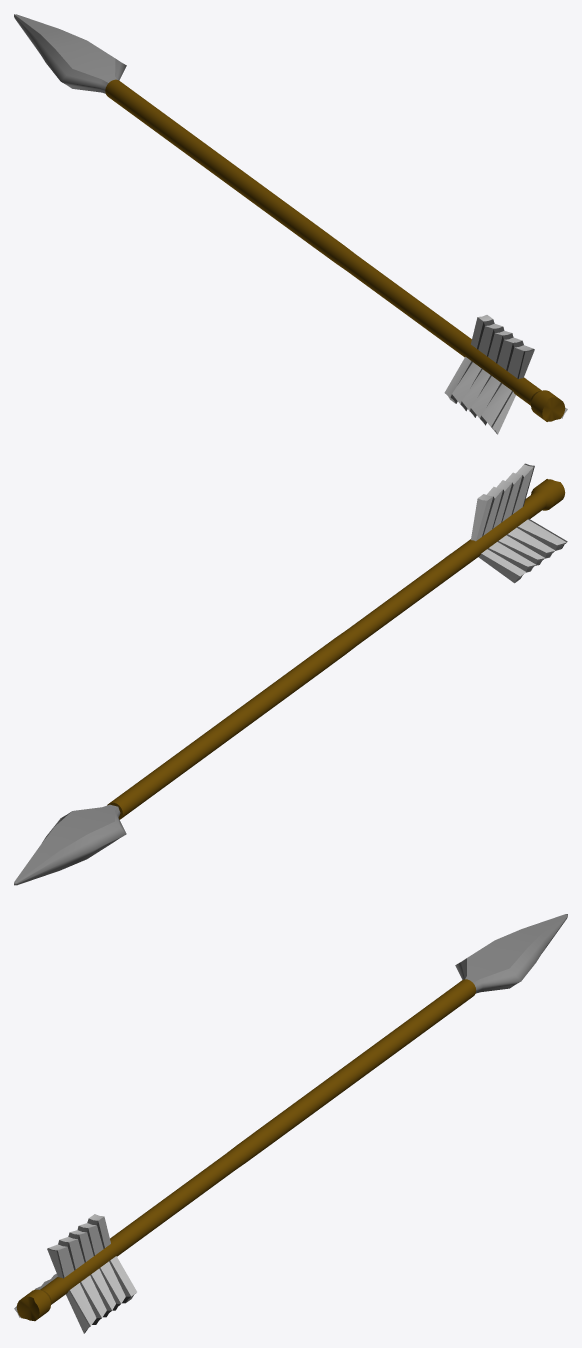
Rendered from arrow.fbx.
3 views of the same model, one above another, from view 1: azimuth 30°, elevation 25°; view 2: azimuth 150°, elevation 25°; view 3: azimuth 330°, elevation 25° (orthographic).
Parts seen in each view (by area): view 1: polySurface279; view 2: polySurface279; view 3: polySurface279.
Part boxes in pixels (x1,y1,x2,y2): polySurface279: (14, 14, 567, 434); polySurface279: (14, 463, 567, 885); polySurface279: (14, 914, 567, 1333).
Bounding box in the file's own units: 18.19 × 17.45 × 224.
